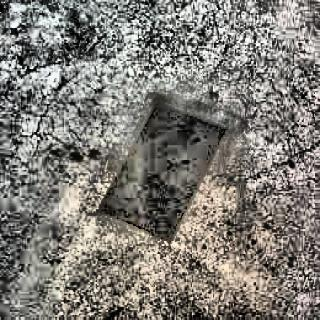alligator-crack: (8, 52, 66, 169)
pothole: (90, 98, 228, 246)
